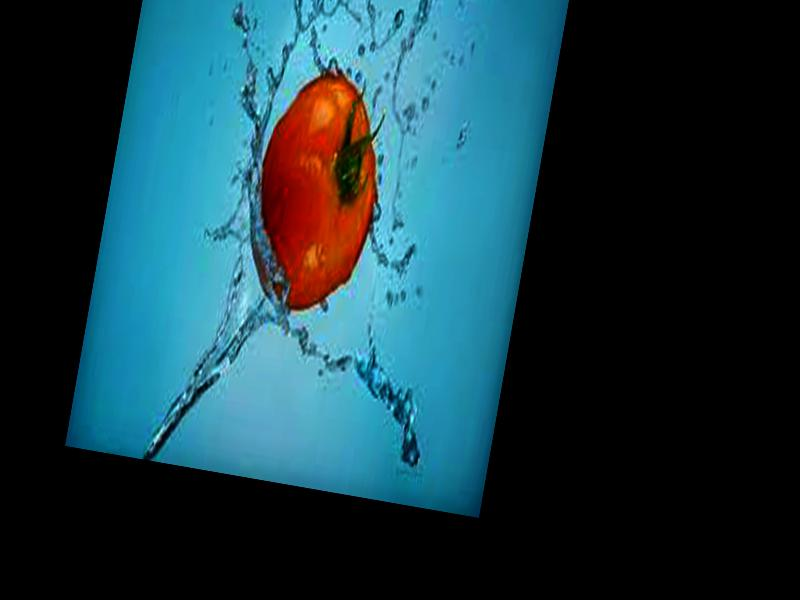Tomato: (237, 62, 394, 319)
